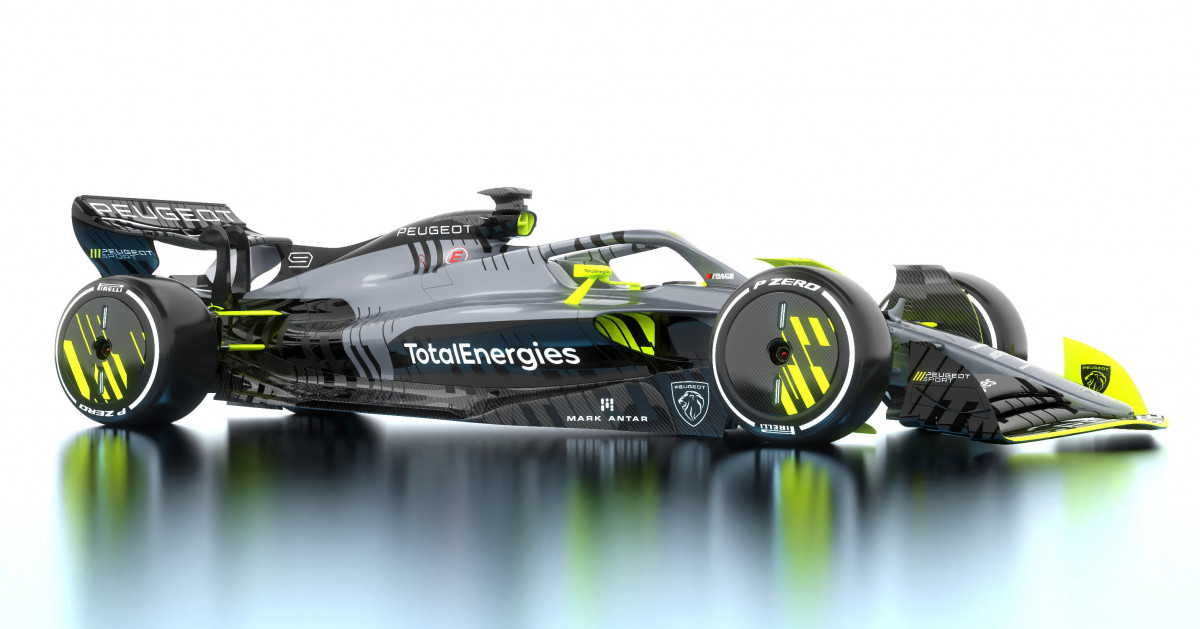Formule 1: (56, 192, 1165, 449)
